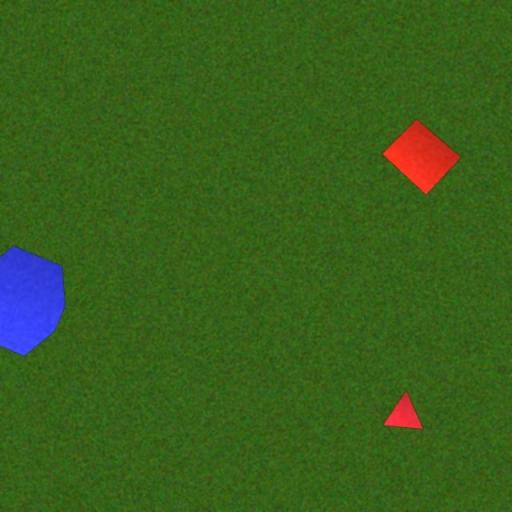RED_SQUARE: (382, 118, 462, 196)
